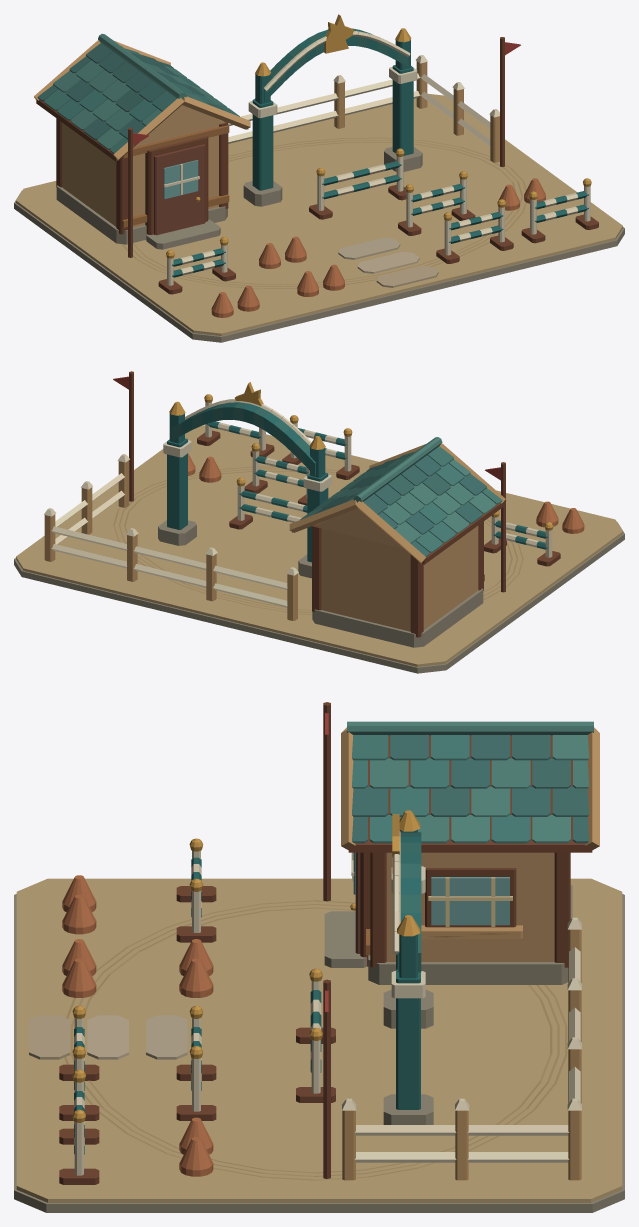
The picture shows the model from 3 angles, top to bottom: view 1: azimuth 30°, elevation 25°; view 2: azimuth 150°, elevation 25°; view 3: azimuth 270°, elevation 25°; orthographic projection. The views are drawn at different scales.
Visible parts, largest first — view 1: Base, Staff10, Staff08, Staff06, Staff03, Staff07, Staff05, Staff09, Staff04; view 2: Base, Staff03, Staff06, Staff10, Staff08, Staff07, Staff04; view 3: Base, Staff08, Staff06, Staff03, Staff10, Staff07, Staff04, Staff09, Staff05.
Boxes of the visible parts, box(x1,y1,x2,y2) form: Base: box(14, 14, 624, 342); Staff10: box(436, 199, 513, 263); Staff08: box(521, 178, 598, 243); Staff06: box(398, 171, 475, 235); Staff03: box(158, 237, 235, 294); Staff07: box(211, 285, 259, 317); Staff05: box(259, 236, 306, 268); Staff09: box(297, 264, 344, 296); Staff04: box(498, 178, 545, 210); Base: box(14, 371, 624, 673); Staff03: box(484, 511, 560, 566); Staff06: box(244, 443, 309, 505); Staff10: box(282, 415, 359, 479); Staff08: box(197, 394, 274, 457); Staff07: box(536, 501, 584, 533); Staff04: box(188, 453, 221, 482); Base: box(14, 702, 624, 1212); Staff08: box(59, 1069, 99, 1184); Staff06: box(176, 1005, 216, 1120); Staff03: box(176, 838, 216, 942); Staff10: box(59, 1005, 99, 1120); Staff07: box(62, 875, 96, 934); Staff04: box(179, 1117, 213, 1176); Staff09: box(62, 939, 96, 997); Staff05: box(179, 939, 213, 997).
Size of the model in its own units: 9 by 3.52 by 7.2.
